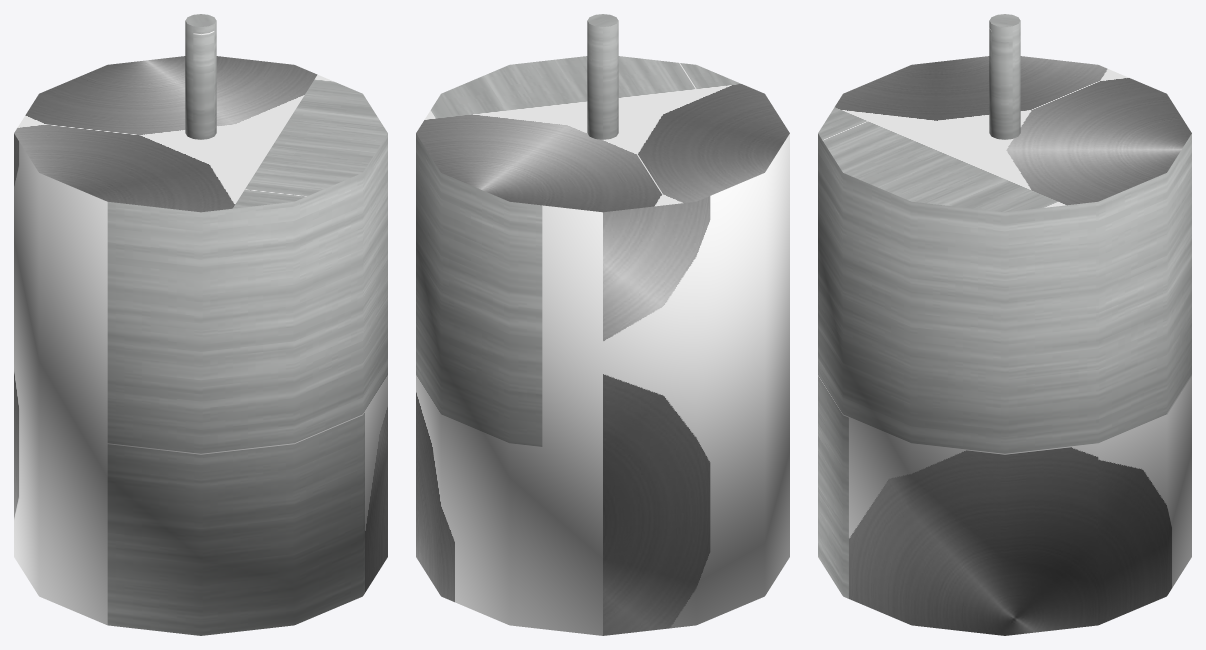
The model's file is Servomotor.gltf.
3 renders of one model, left to right at view 1: azimuth 30°, elevation 25°; view 2: azimuth 150°, elevation 25°; view 3: azimuth 270°, elevation 25°, orthographic.
Parts seen in each view (by area): view 1: Servomotor; view 2: Servomotor; view 3: Servomotor.
Part boxes in pixels (left/top/right/bottom): Servomotor: left=14, top=14, right=387, bottom=635; Servomotor: left=416, top=14, right=789, bottom=635; Servomotor: left=818, top=14, right=1191, bottom=635.
Bounding box in the file's own units: 24 × 37.98 × 24.
1 material, 1 textured.
